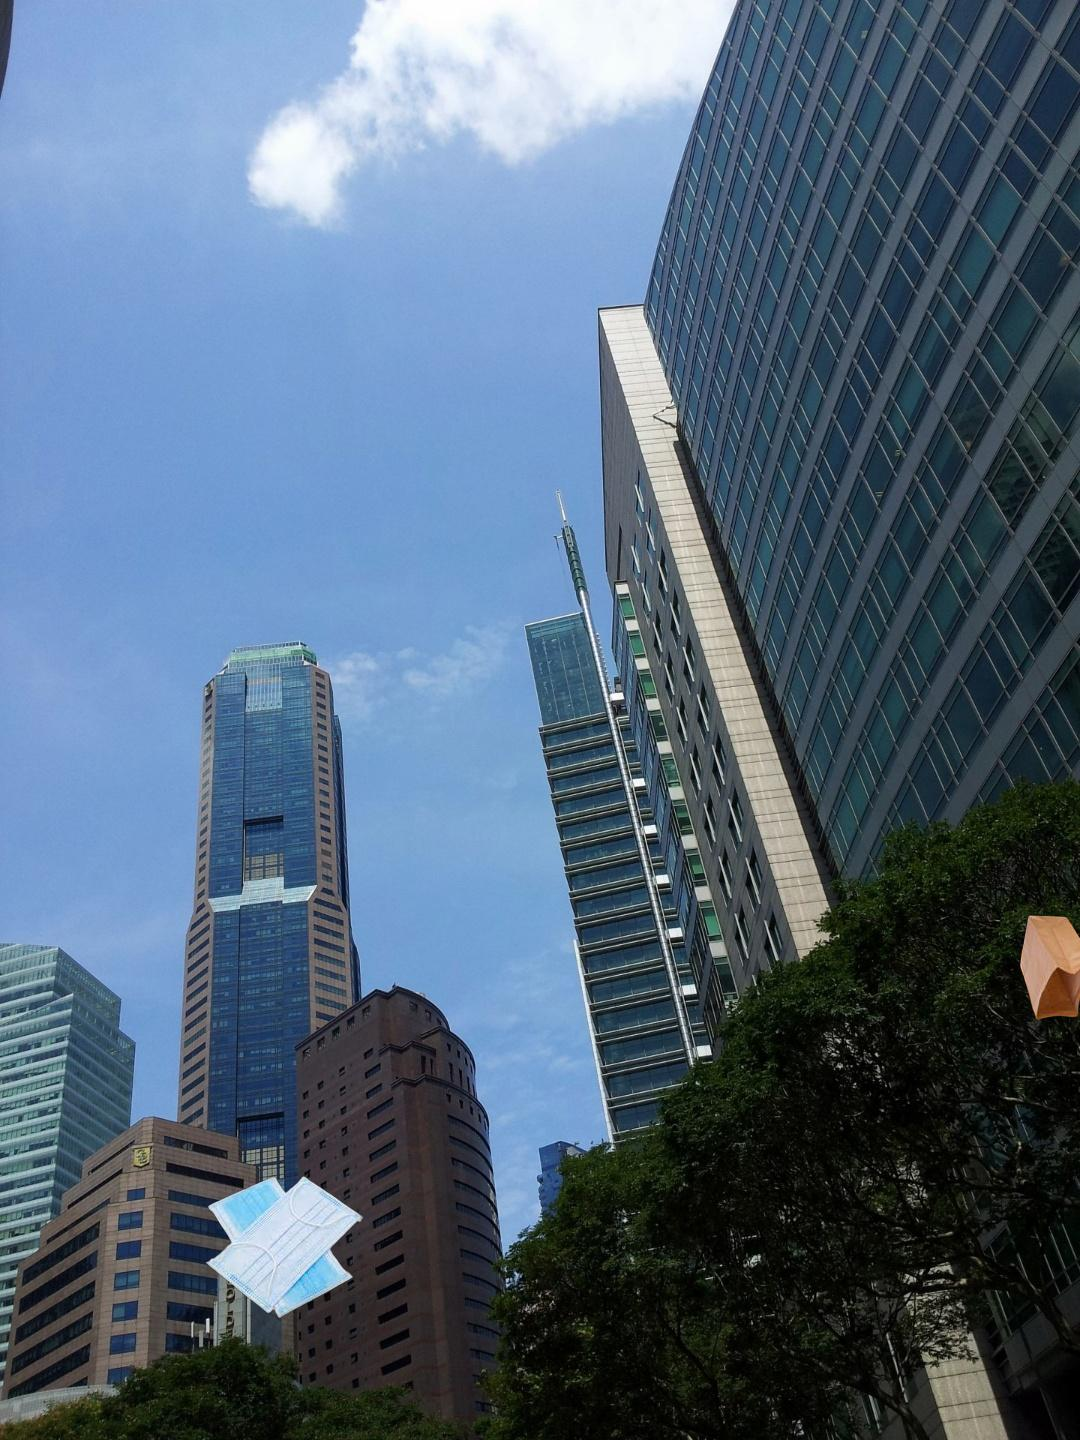paper-bag: (1016, 914, 1080, 1022)
trash: (203, 1174, 366, 1321)
